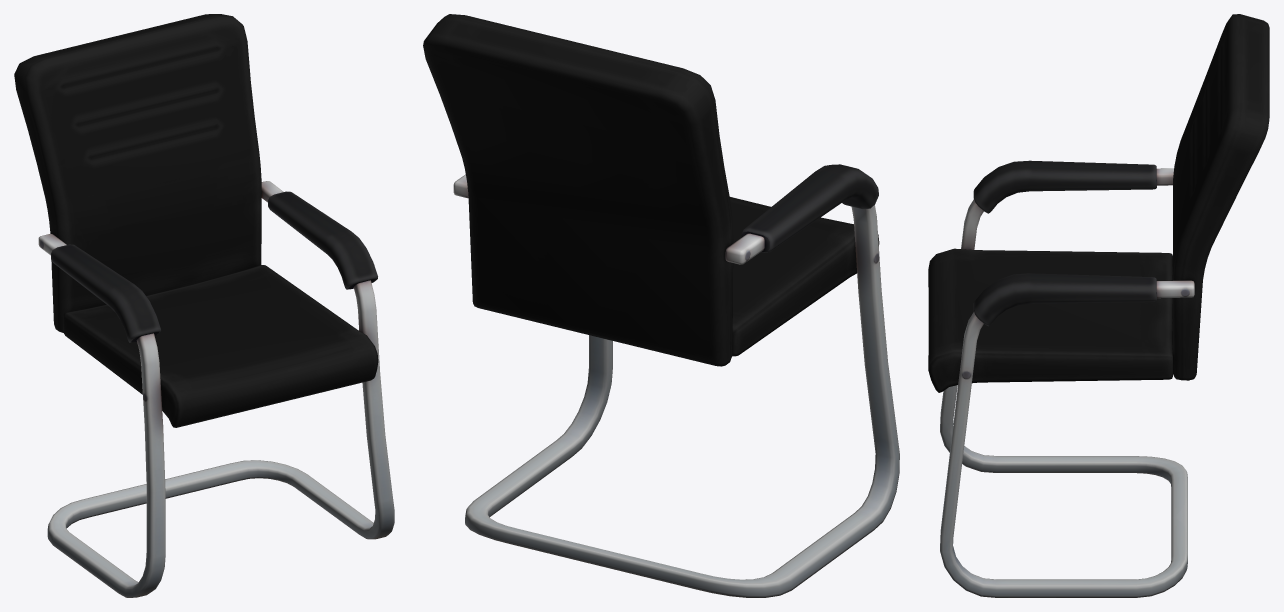
File: OfficeChair06.FBX
The picture shows the model from 3 angles, left to right: view 1: azimuth 30°, elevation 25°; view 2: azimuth 150°, elevation 25°; view 3: azimuth 270°, elevation 25°; orthographic projection. The views are drawn at different scales.
Visible parts, largest first — view 1: OfficeChair06; view 2: OfficeChair06; view 3: OfficeChair06.
Boxes of the visible parts, x1,y1,x2,y2 form: OfficeChair06: (14, 14, 394, 597); OfficeChair06: (423, 14, 899, 597); OfficeChair06: (928, 14, 1269, 597).
Size of what is drawn, in the model's own units: 0.6878 by 1.13 by 0.7462.
